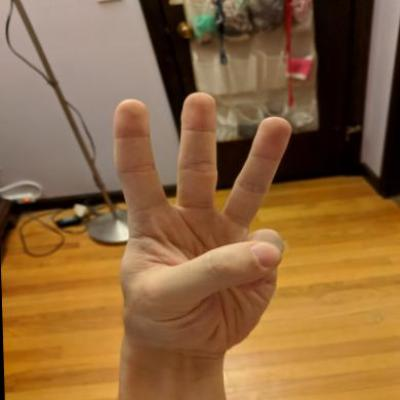hand: (105, 87, 300, 354)
